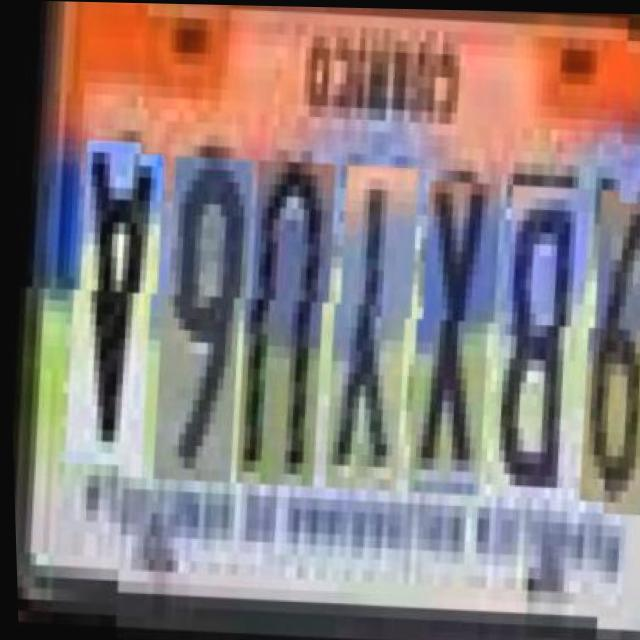6: (140, 157, 246, 486)
9: (566, 188, 640, 502)
a: (51, 153, 157, 482)
b: (477, 184, 581, 498)
u: (223, 160, 329, 489)
x: (394, 180, 493, 495)
y: (312, 163, 411, 492)
